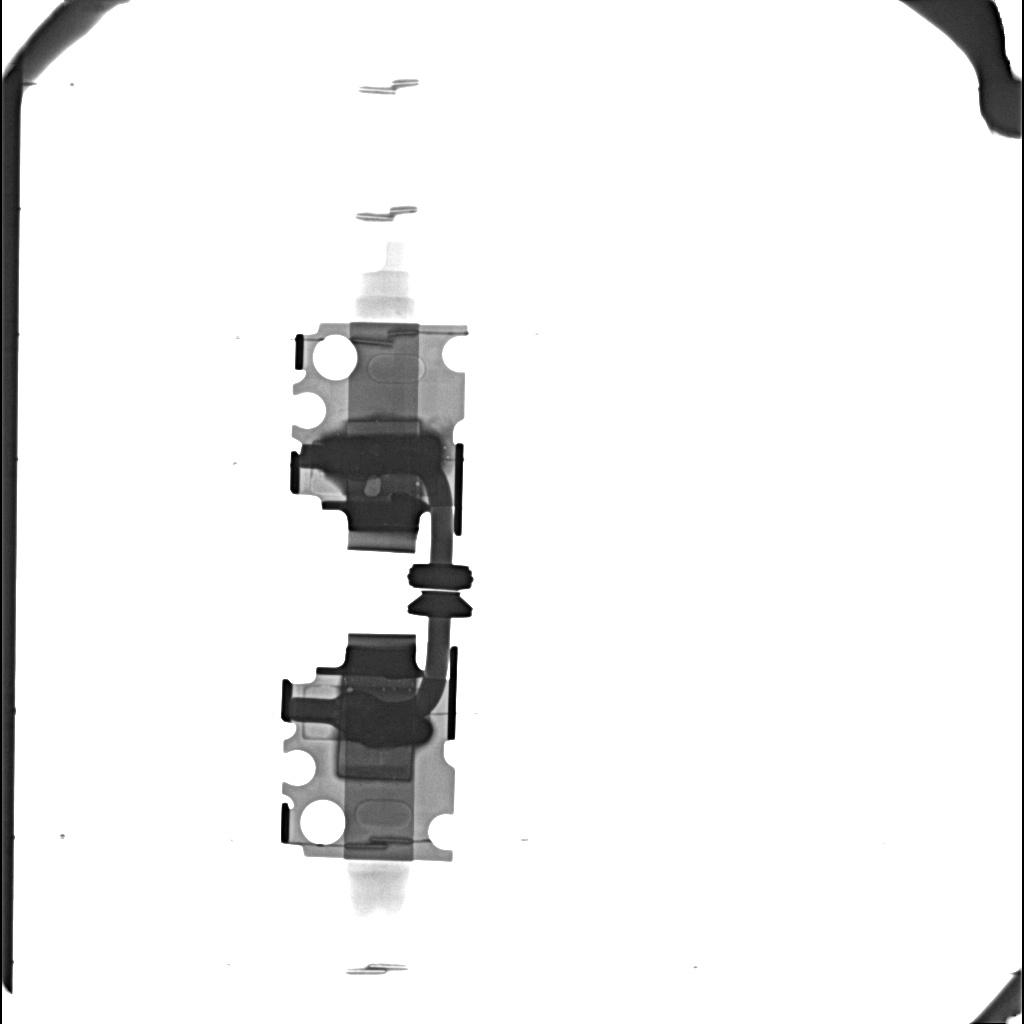气孔: (336, 741, 415, 782), (345, 418, 423, 433)
气泡: (363, 478, 382, 497)
水纹: (322, 433, 442, 479), (332, 703, 432, 747)
